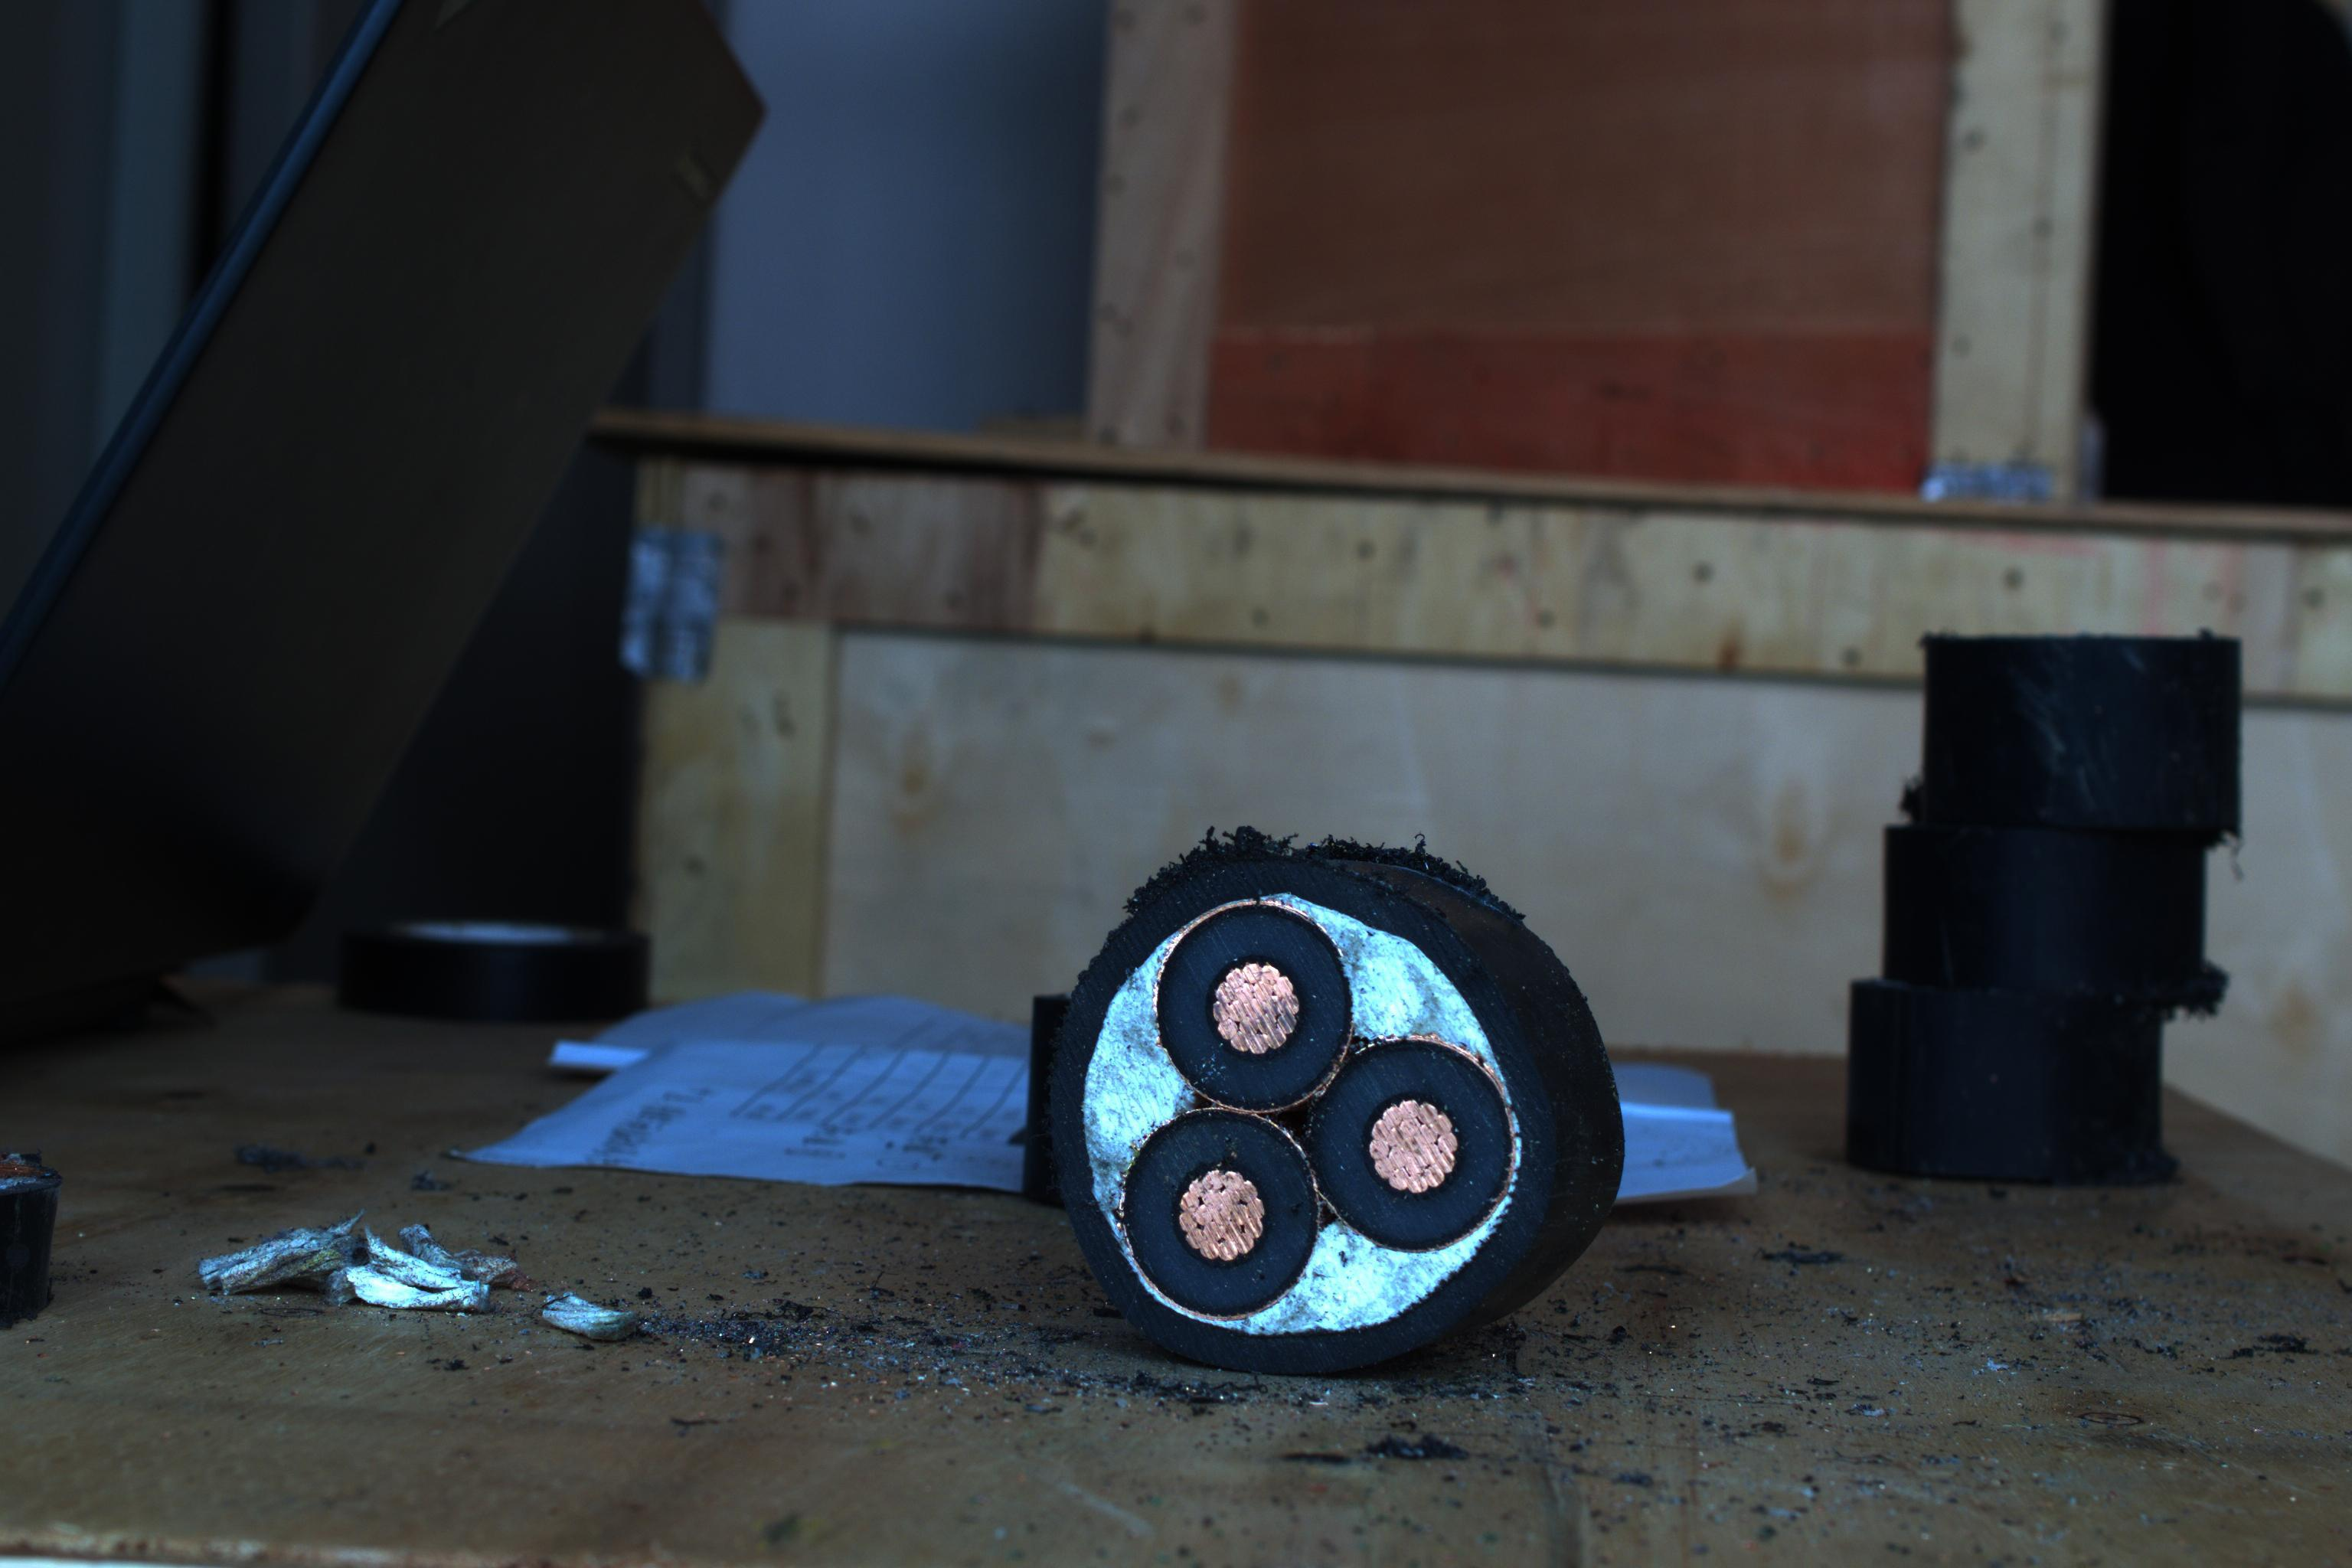YJV_8.7_10kV_3x70: (1001, 880, 1577, 1358)
